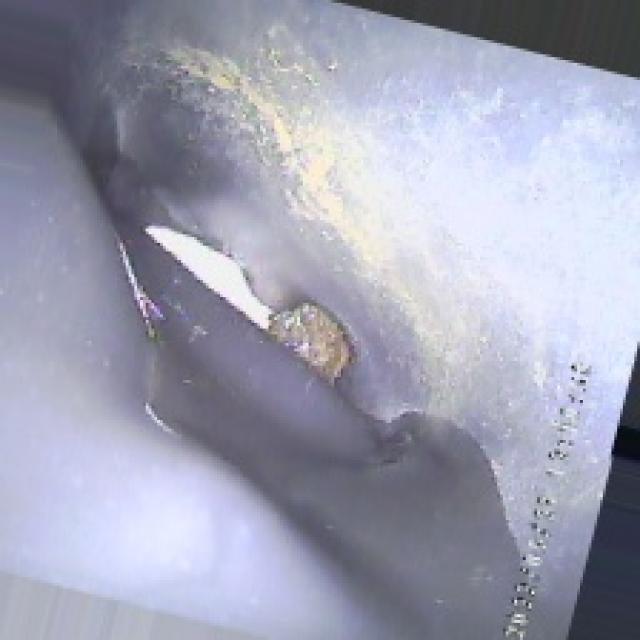shape_deformation: (23, 71, 483, 548)
